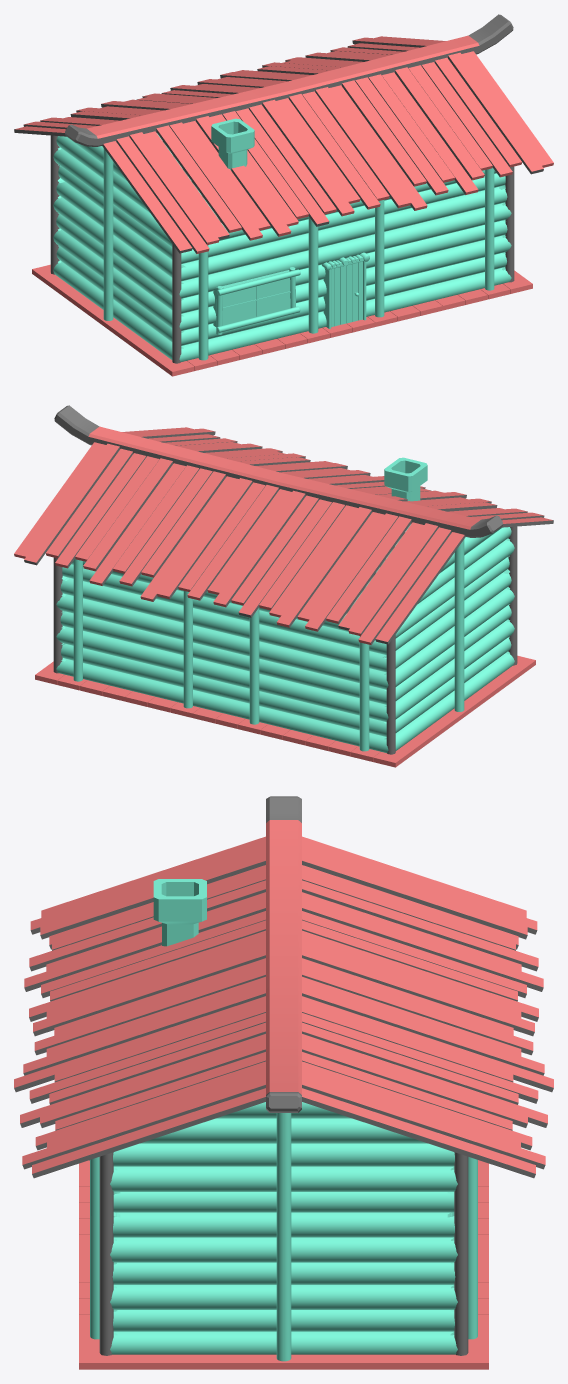
Rendered from SM_HutV2.fbx.
The picture shows the model from 3 angles, top to bottom: view 1: azimuth 30°, elevation 25°; view 2: azimuth 150°, elevation 25°; view 3: azimuth 270°, elevation 25°; orthographic projection. The views are drawn at different scales.
Parts seen in each view (by area): view 1: SM_Hut; view 2: SM_Hut; view 3: SM_Hut.
Part boxes in pixels (left/top/right/bottom): SM_Hut: left=14, top=14, right=553, bottom=376; SM_Hut: left=14, top=405, right=553, bottom=767; SM_Hut: left=14, top=796, right=553, bottom=1369.
Bounding box in the file's own units: 1632 × 746 × 1190.
